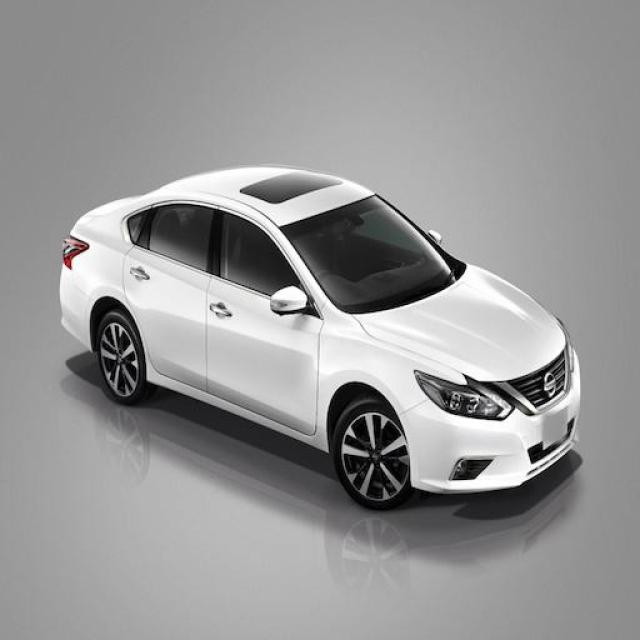back_right_door: (123, 198, 220, 393)
back_right_light: (62, 235, 90, 268)
front_bumper: (398, 319, 581, 496)
front_glass: (279, 194, 466, 315)
front_right_door: (204, 206, 323, 431)
front_right_light: (416, 371, 516, 420)
hood: (349, 262, 566, 382)
right_mirror: (271, 285, 309, 316)
wheel: (95, 308, 410, 511)
